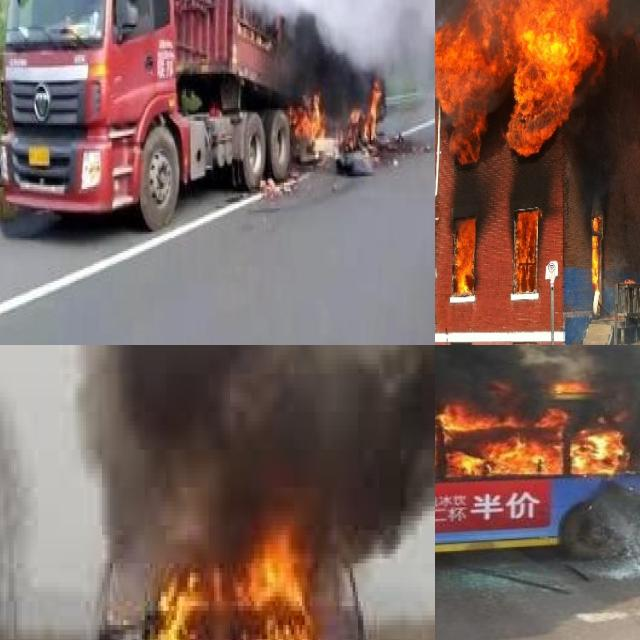fire: (435, 0, 618, 161), (128, 525, 334, 640), (435, 378, 640, 482), (273, 54, 385, 164), (511, 209, 537, 293), (452, 219, 475, 295), (590, 213, 604, 314)
smoke: (67, 345, 435, 577), (435, 345, 640, 460), (435, 0, 640, 99)
